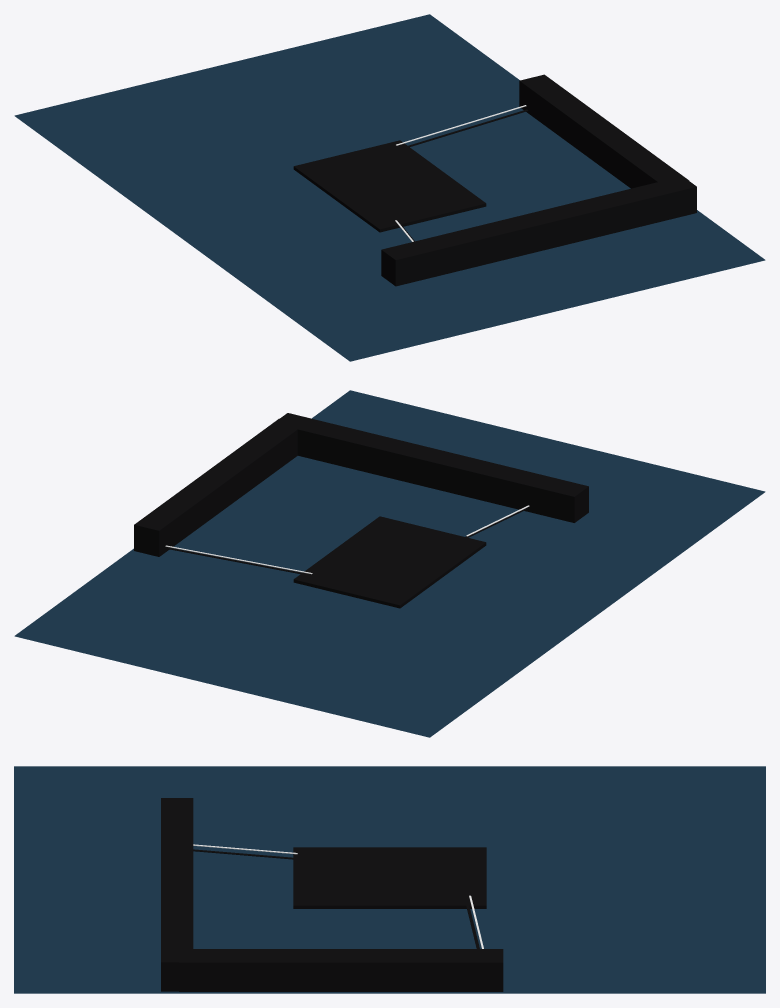
The model's file is city.fbx.
3 renders of one model, top to bottom at view 1: azimuth 30°, elevation 25°; view 2: azimuth 150°, elevation 25°; view 3: azimuth 270°, elevation 25°, orthographic. The views are drawn at different scales.
Visible parts, largest first — view 1: Plane, Cube__1_, Cube__2_, Cube; view 2: Plane, Cube__1_, Cube__2_, Cube; view 3: Plane, Cube, Cube__2_, Cube__1_.
Part boxes in pixels (x1,y1,x2,y2): Plane: (14,14,765,361); Cube__1_: (381,176,696,286); Cube__2_: (293,140,486,232); Cube: (519,74,689,188); Plane: (14,390,765,737); Cube__1_: (274,413,588,522); Cube__2_: (293,516,486,608); Cube: (134,418,303,556); Plane: (14,766,765,993); Cube: (179,949,503,991); Cube__2_: (293,847,486,908); Cube__1_: (161,798,193,991).
Size of the model in its own units: 414054 by 25000 by 579675.
